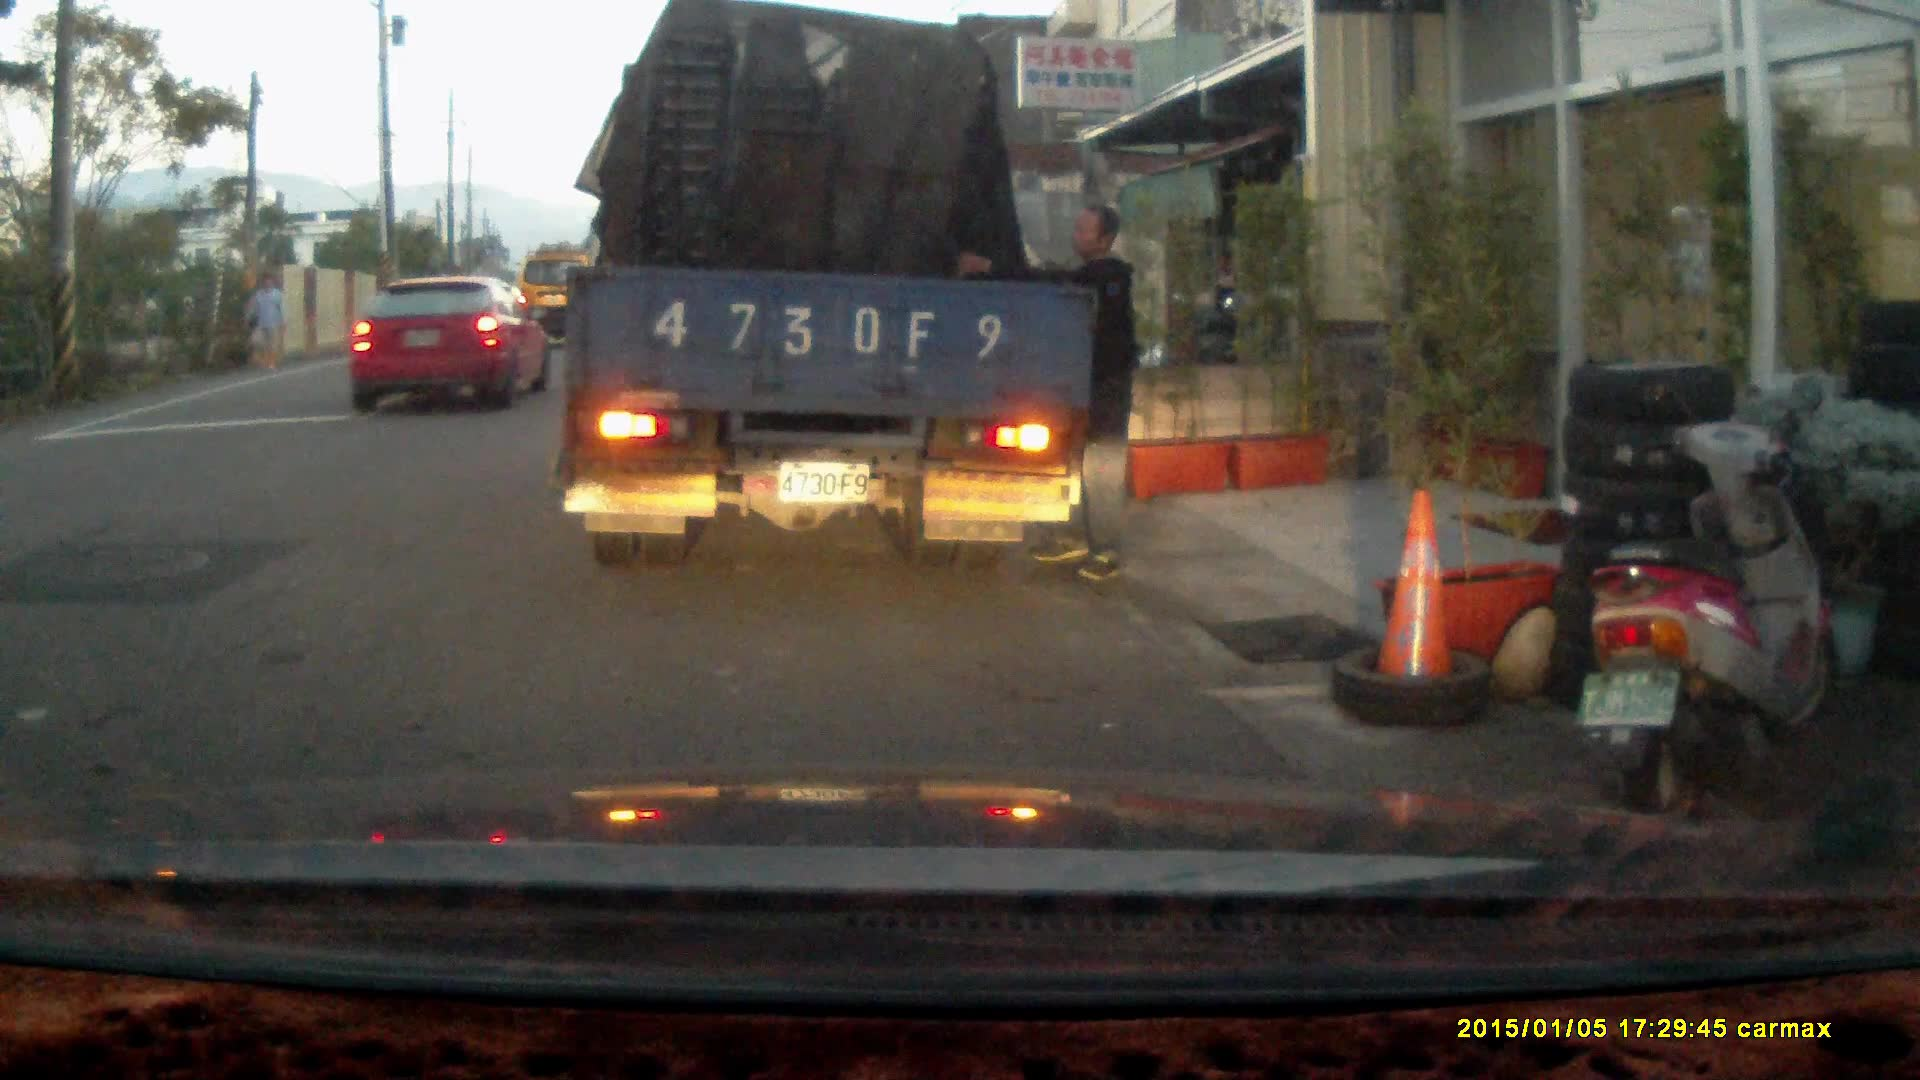pedestrian: (950, 200, 1137, 582), (243, 274, 285, 371)
vehicle: (565, 23, 1097, 572), (353, 277, 552, 415), (518, 250, 595, 346)
